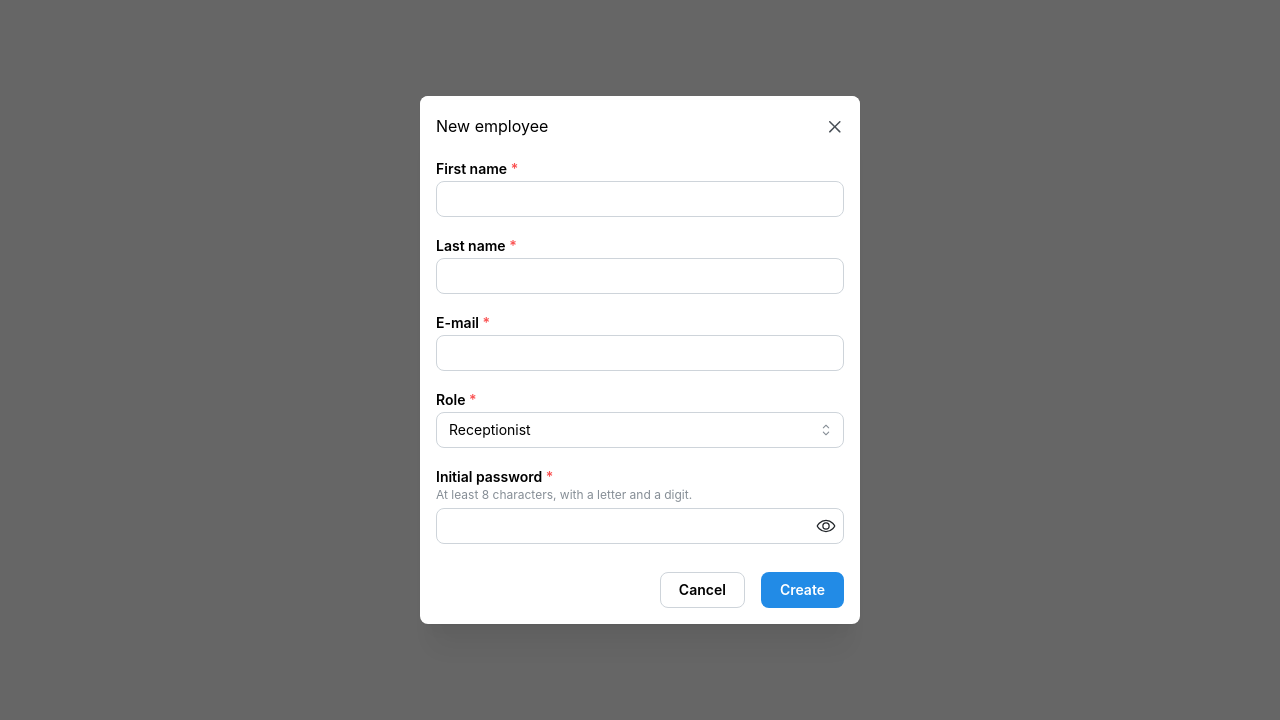
it: EmployeeFormModal › shows a taken e-mail under the e-mail field
Type "Lejla" into the field labelled "First name *" at (640, 199), box [436,181,844,217]
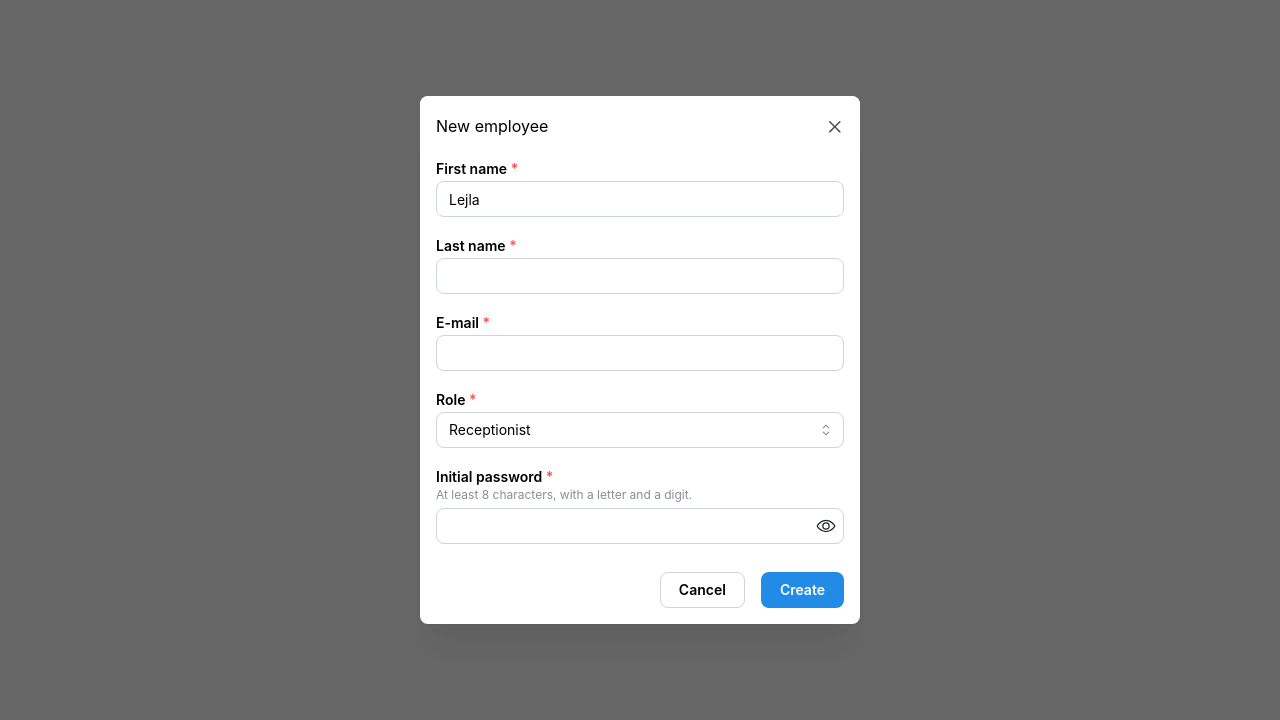
Type "Begić" into the field labelled "Last name *" at (640, 276), box [436,258,844,294]
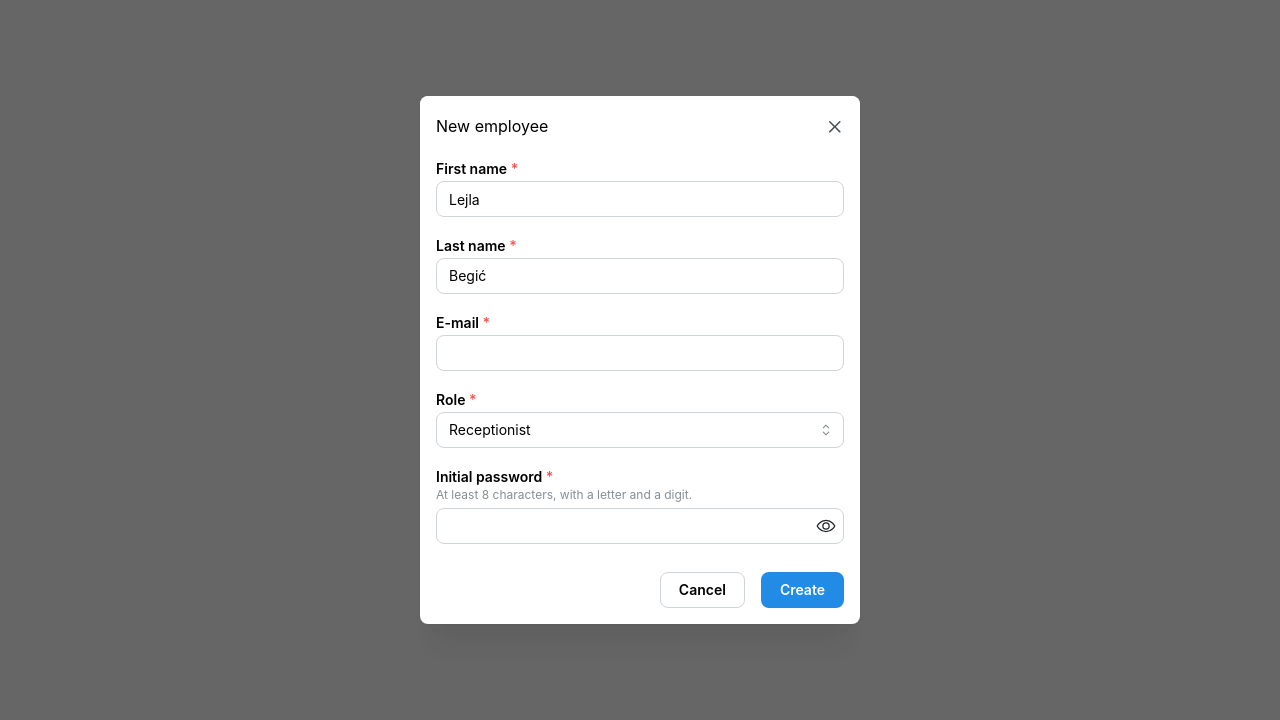
Type "lejla@coworking.ba" into the field labelled "E-mail *" at (640, 353), box [436,335,844,371]
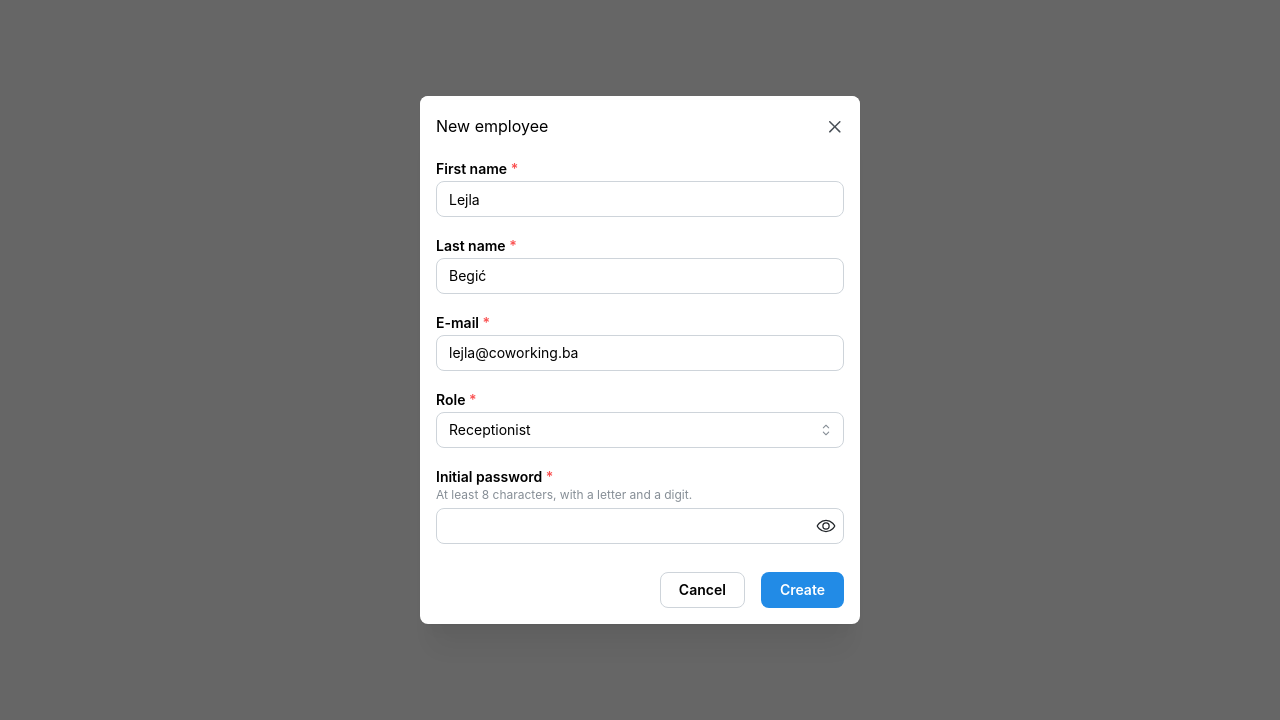
Type "Coworking123" into the password field labelled "Initial password *" at (640, 526), box [437,509,843,543]
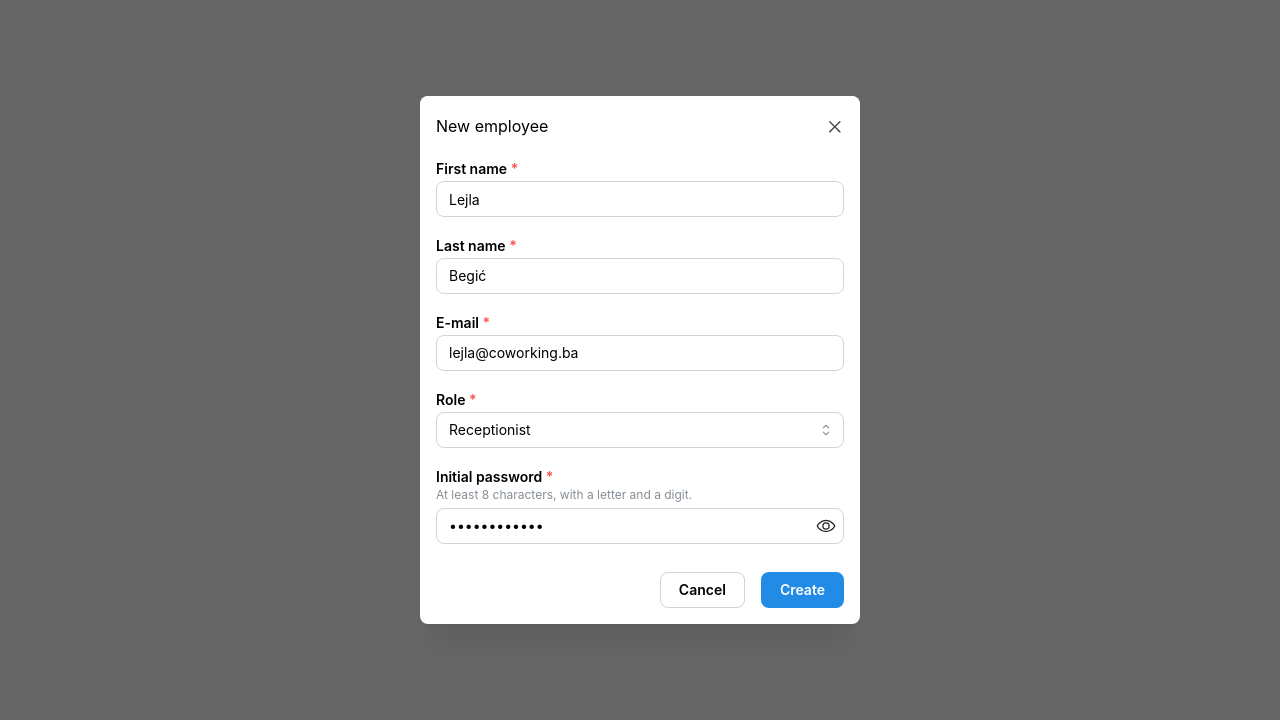
Click the button "Create" at (802, 590), box [761,572,844,608]
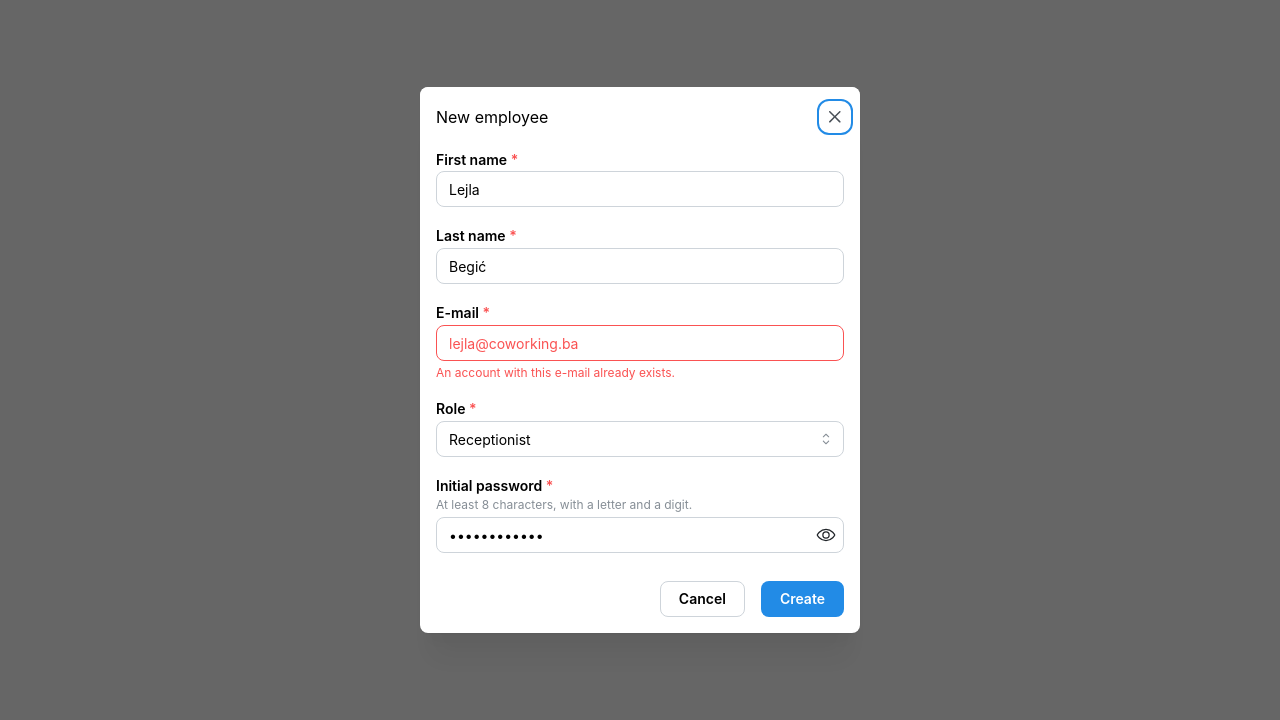
Expected: the text "An account with this e-mail already exists." is shown, [436,365,675,380]
